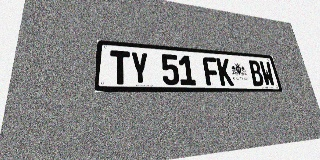1: (177, 55, 196, 85)
5: (161, 54, 180, 85)
B: (248, 60, 265, 86)
F: (202, 57, 220, 86)
K: (216, 58, 234, 86)
T: (110, 50, 130, 85)
W: (259, 61, 276, 86)
Y: (130, 52, 150, 85)
